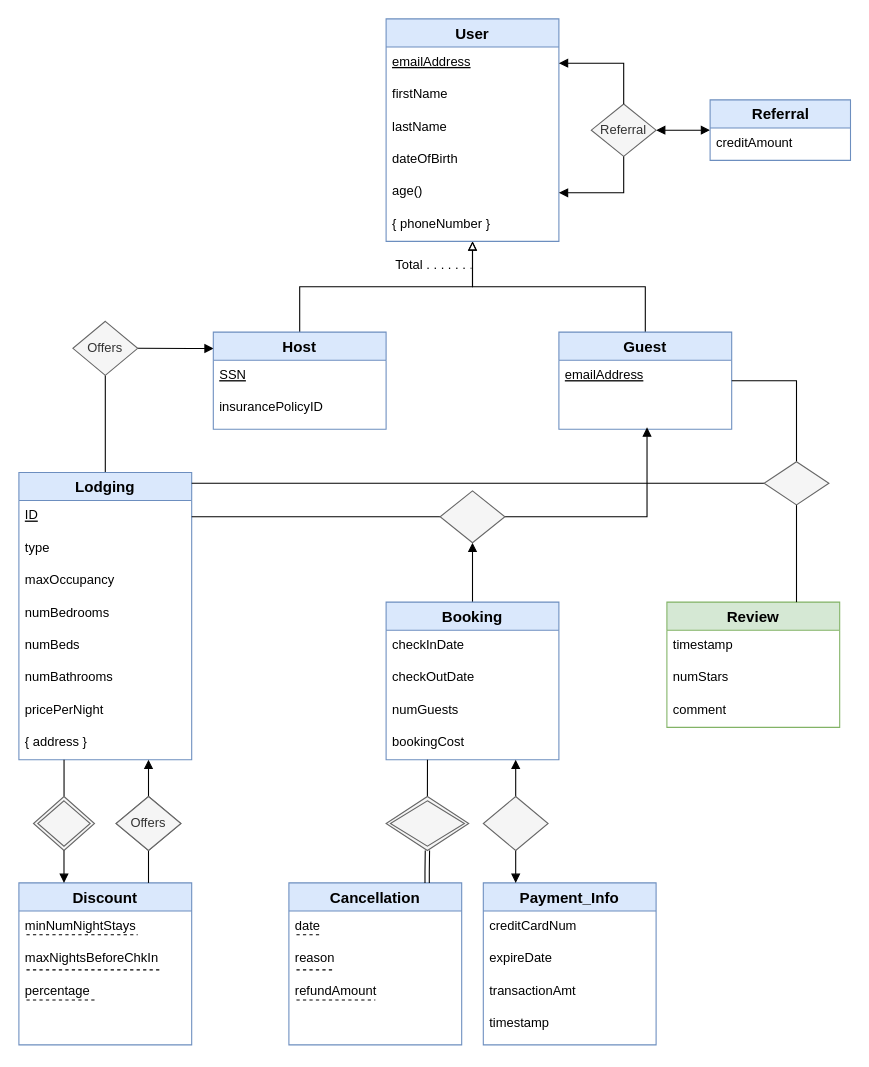
The diagram is 869 pixels wide and 1067 high, and some of its shapes have lost their labels. Here are the shapes that lost their labels. From the top down, the centre of each, then its label:
point 796,483: Reviews
point 472,516: Books
point 63,822: Offered
point 427,822: cancelled
point 515,822: Paid
